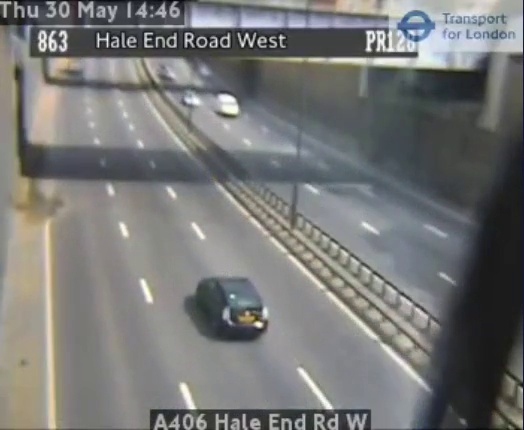car: (198, 277, 268, 335)
